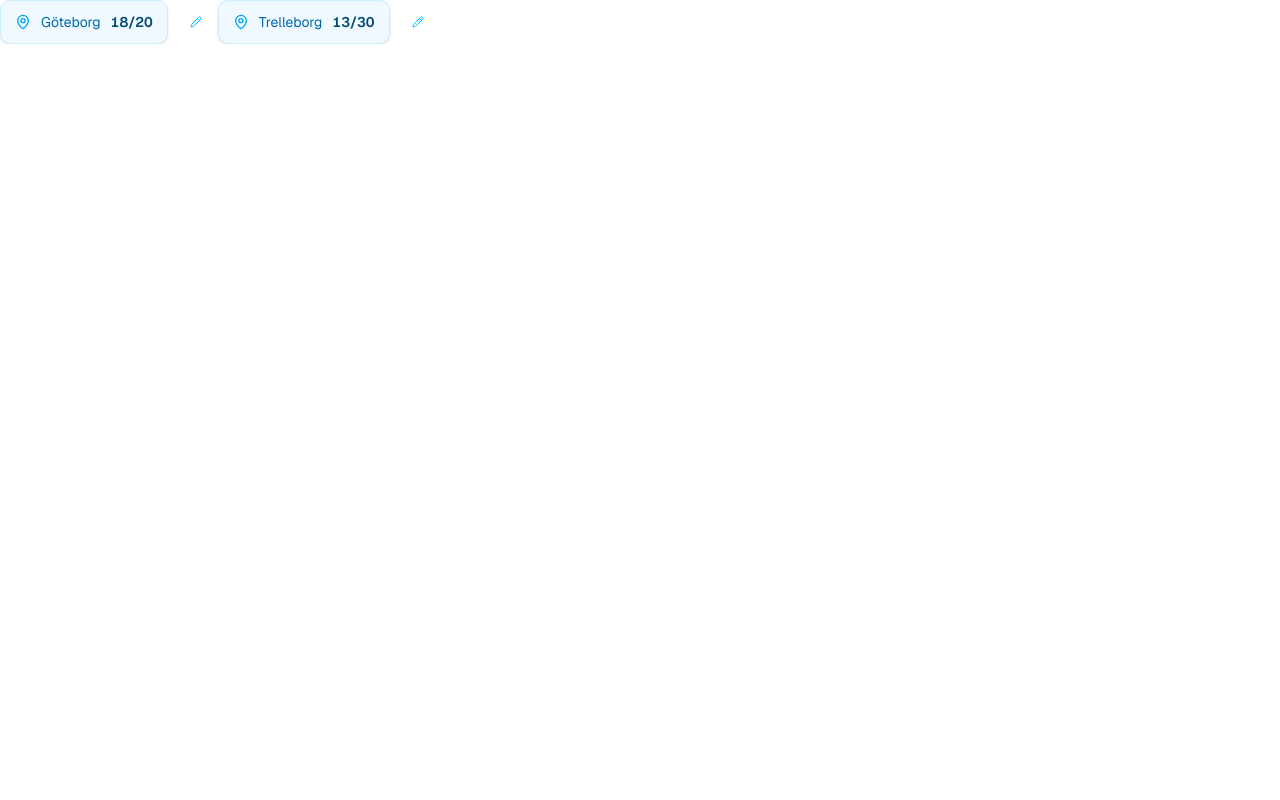
Test case: Edit Staffing Needs Integration › cards refresh after successful save
Expected: the text "13/30" is shown, [332,12,374,32]
Click the 1st button with test id "pencil-icon" at [196, 22], box [174,0,218,44]
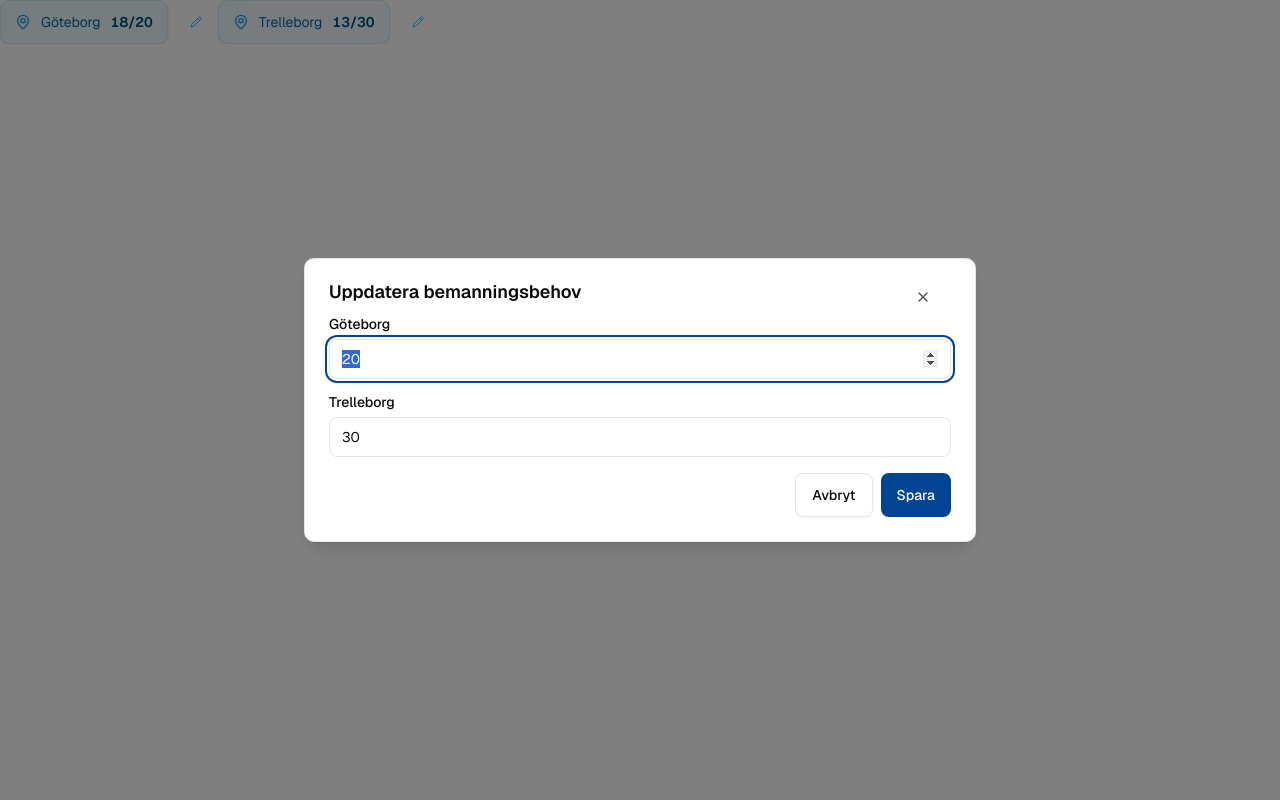
Expected: the number field labelled "Trelleborg" is shown
Replace the text in the number field labelled "Trelleborg" with "35" at [640, 437], box [329,417,951,457]
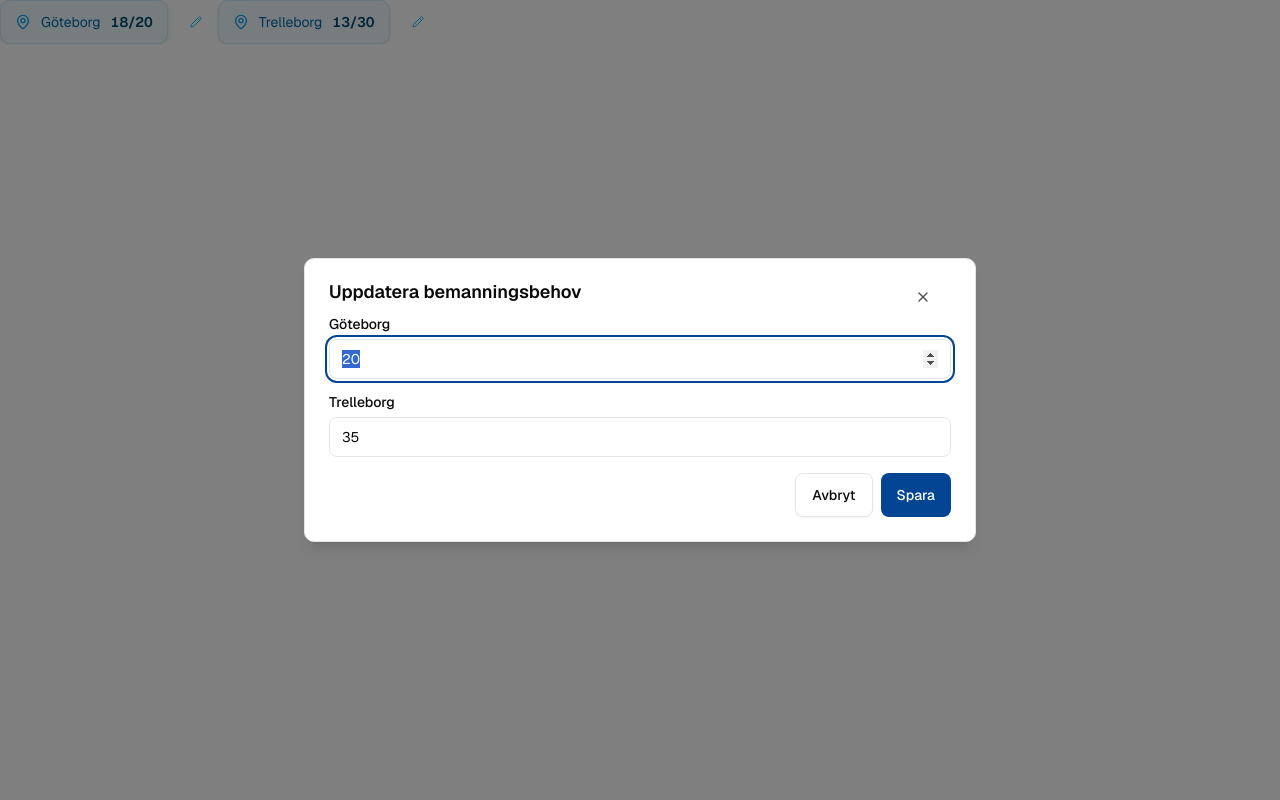
Click the button "Spara" at [916, 495], box [880,473,951,517]
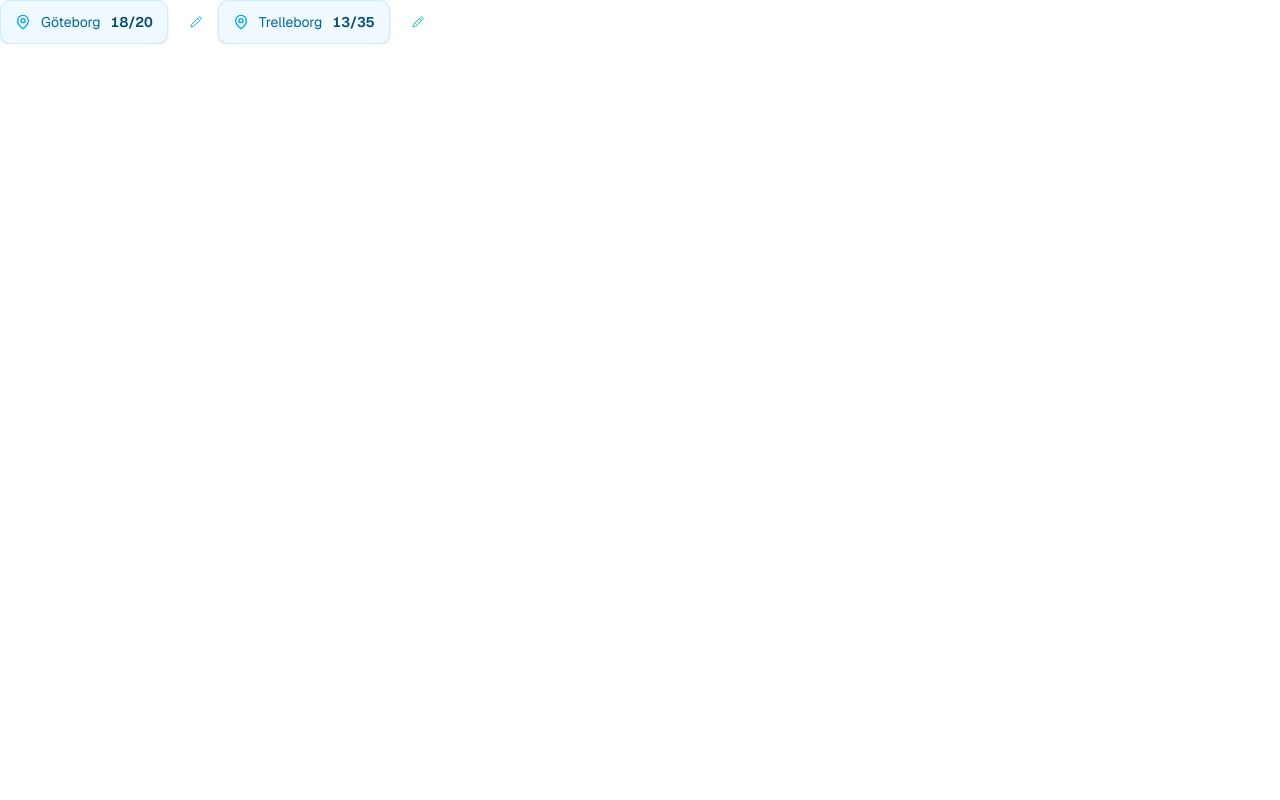
Expected: the text "13/35" is shown, [332,12,374,32]
